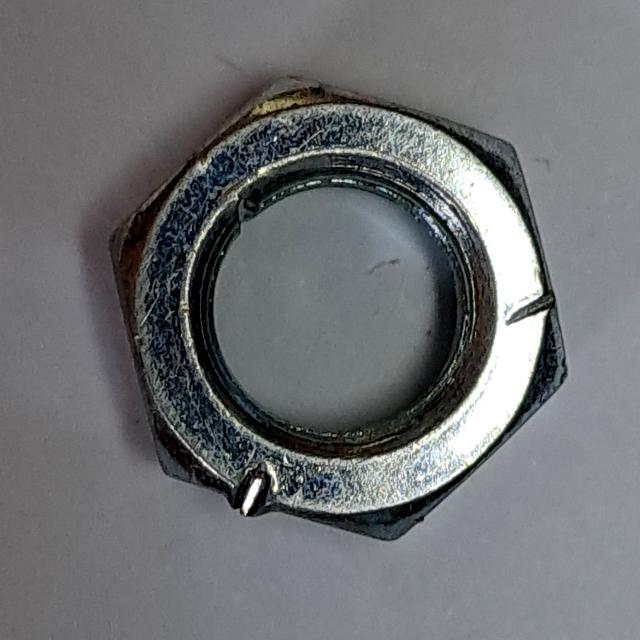Scratches: (100, 68, 580, 554)
